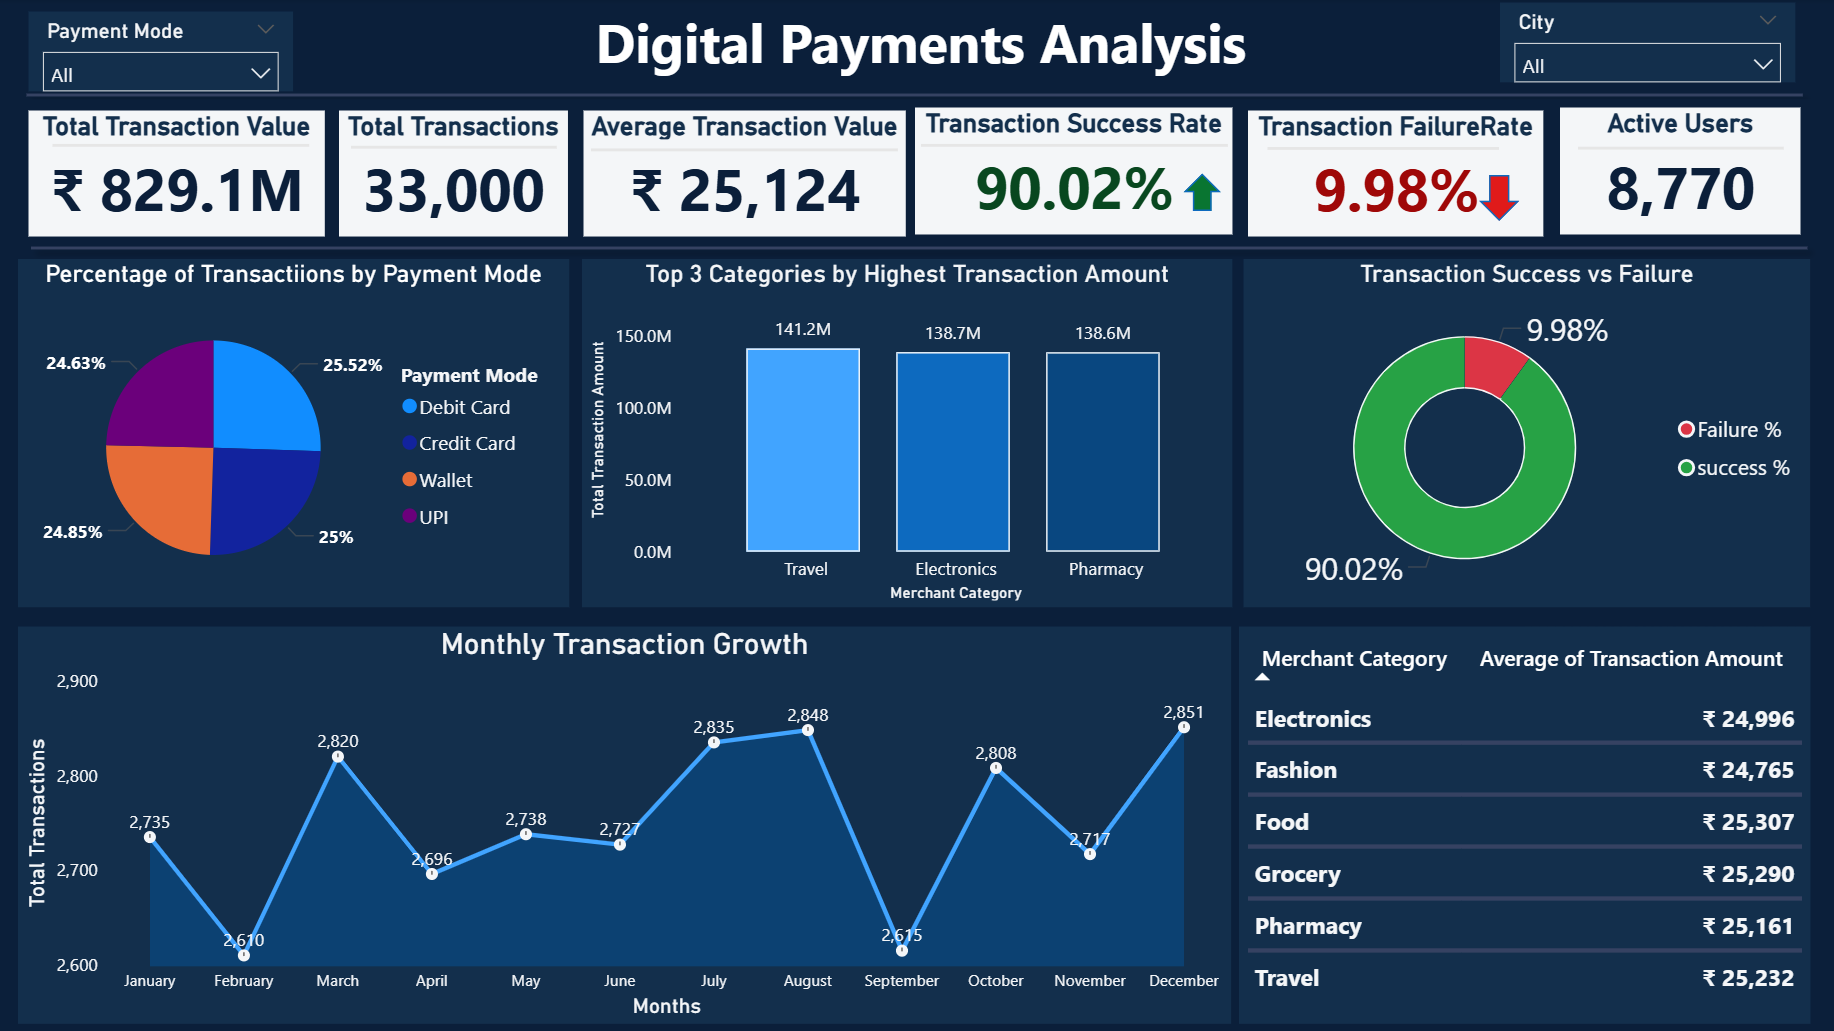

The page's visual inventory and layout, read from the dashboard file:
{"tool":"powerbi","page":{"name":"Page 1","canvas":[1280,720],"ordinal":0},"visuals":[{"type":"textbox","box":[25.5,0,1238.8,63.7],"z":0},{"type":"shape","box":[15.3,58.1,1248.9,12.2],"z":1000},{"type":"card","title":"Total Transaction Value","fields":{"Values":["Sum(Digital_Payments_Data(P).Transaction_Amount)"]},"box":[26,77.9,205.2,87],"z":2000},{"type":"card","title":"Total Transactions","fields":{"Values":["CountNonNull(Digital_Payments_Data(P).Transaction_ID)"]},"box":[241.6,77.9,158.4,87],"z":3000},{"type":"card","title":"Average Transaction Value","fields":{"Values":["Avg(Digital_Payments_Data(P).Transaction_Amount)"]},"box":[410.4,77.9,223.4,87],"z":4000},{"type":"card","title":"Transaction Success Rate","fields":{"Values":["Digital_Payments_Data(P).success %"]},"box":[640.4,76.4,220.3,87.9],"z":5000},{"type":"shape","box":[42.9,96.1,177.9,13],"z":6000},{"type":"shape","box":[249.6,98,142.6,11.5],"z":7000},{"type":"shape","box":[415.6,98.7,213,13],"z":8000},{"type":"shape","box":[826,122.1,26,26],"z":9000},{"type":"shape","box":[644.2,96.1,213,13],"z":10000},{"type":"card","title":"Transaction FailureRate","fields":{"Values":["Digital_Payments_Data(P).Failure %"]},"box":[871.3,78,204.8,87.1],"z":11000},{"type":"card","title":"Active Users","fields":{"Values":["Digital_Payments_Data(P).Active Users"]},"box":[1087.3,76.4,166.8,87.9],"z":12000},{"type":"shape","box":[884.9,99.3,160.4,8.9],"z":13000},{"type":"shape","box":[1031.3,122.2,28,31.8],"z":14000},{"type":"shape","box":[1100.1,98,142.6,12.7],"z":15000},{"type":"shape","box":[19.1,164.2,1249,16.6],"z":16000},{"type":"donutChart","title":" Transaction Success vs Failure","fields":{"Y":["Digital_Payments_Data(P).Failure %","Digital_Payments_Data(P).success %"]},"box":[868.3,180.4,392.9,241.5],"z":17000},{"type":"lineChart","title":"Monthly Transaction Growth","fields":{"Category":["Digital_Payments_Data(P).Transaction_Date.Variation.Date Hierarchy.Month"],"Y":["CountNonNull(Digital_Payments_Data(P).Transaction_ID)"]},"box":[18.3,435.7,840.8,275.2],"z":18000},{"type":"pieChart","title":"Percentage of Transactiions by Payment Mode","fields":{"Category":["Digital_Payments_Data(P).Payment_Mode"],"Y":["CountNonNull(Digital_Payments_Data(P).Transaction_ID)"]},"box":[18.3,180.4,382.2,241.5],"z":19000},{"type":"clusteredColumnChart","title":"Top 3 Categories by Highest Transaction Amount","fields":{"Category":["Digital_Payments_Data(P).Merchant_Category"],"Y":["Sum(Digital_Payments_Data(P).Transaction_Amount)"]},"box":[409.7,180.4,451,241.5],"z":20000},{"type":"slicer","fields":{"Values":["Digital_Payments_Data(P).Payment_Mode"]},"box":[26,9.2,183.4,55],"z":21000},{"type":"tableEx","fields":{"Values":["Digital_Payments_Data(P).Merchant_Category","Avg(Digital_Payments_Data(P).Transaction_Amount)"]},"box":[865.2,435.7,395.9,275.2],"z":22000},{"type":"slicer","fields":{"Values":["Digital_Payments_Data(P).City"]},"box":[1045.6,3.1,204.8,55],"z":23000}]}

Visuals, with their boxes in screenshot pixels (x1, y1, x2, y2), scaled from the page's 1280x720 canvas onto the 1834x1031 screenshot:
textbox: select_region(37, 0, 1812, 91)
shape: select_region(22, 83, 1811, 101)
"Total Transaction Value" card: select_region(37, 112, 331, 236)
"Total Transactions" card: select_region(346, 112, 573, 236)
"Average Transaction Value" card: select_region(588, 112, 908, 236)
"Transaction Success Rate" card: select_region(918, 109, 1233, 235)
shape: select_region(61, 138, 316, 156)
shape: select_region(358, 140, 562, 157)
shape: select_region(595, 141, 901, 160)
shape: select_region(1184, 175, 1221, 212)
shape: select_region(923, 138, 1228, 156)
"Transaction FailureRate" card: select_region(1248, 112, 1542, 236)
"Active Users" card: select_region(1558, 109, 1797, 235)
shape: select_region(1268, 142, 1498, 155)
shape: select_region(1478, 175, 1518, 221)
shape: select_region(1576, 140, 1781, 159)
shape: select_region(27, 235, 1817, 259)
" Transaction Success vs Failure" donutChart: select_region(1244, 258, 1807, 604)
"Monthly Transaction Growth" lineChart: select_region(26, 624, 1231, 1018)
"Percentage of Transactiions by Payment Mode" pieChart: select_region(26, 258, 574, 604)
"Top 3 Categories by Highest Transaction Amount" clusteredColumnChart: select_region(587, 258, 1233, 604)
slicer - Digital_Payments_Data(P).Payment_Mode: select_region(37, 13, 300, 92)
tableEx - Digital_Payments_Data(P).Merchant_Category x Avg(Digital_Payments_Data(P).Transaction_Amount): select_region(1240, 624, 1807, 1018)
slicer - Digital_Payments_Data(P).City: select_region(1498, 4, 1792, 83)
